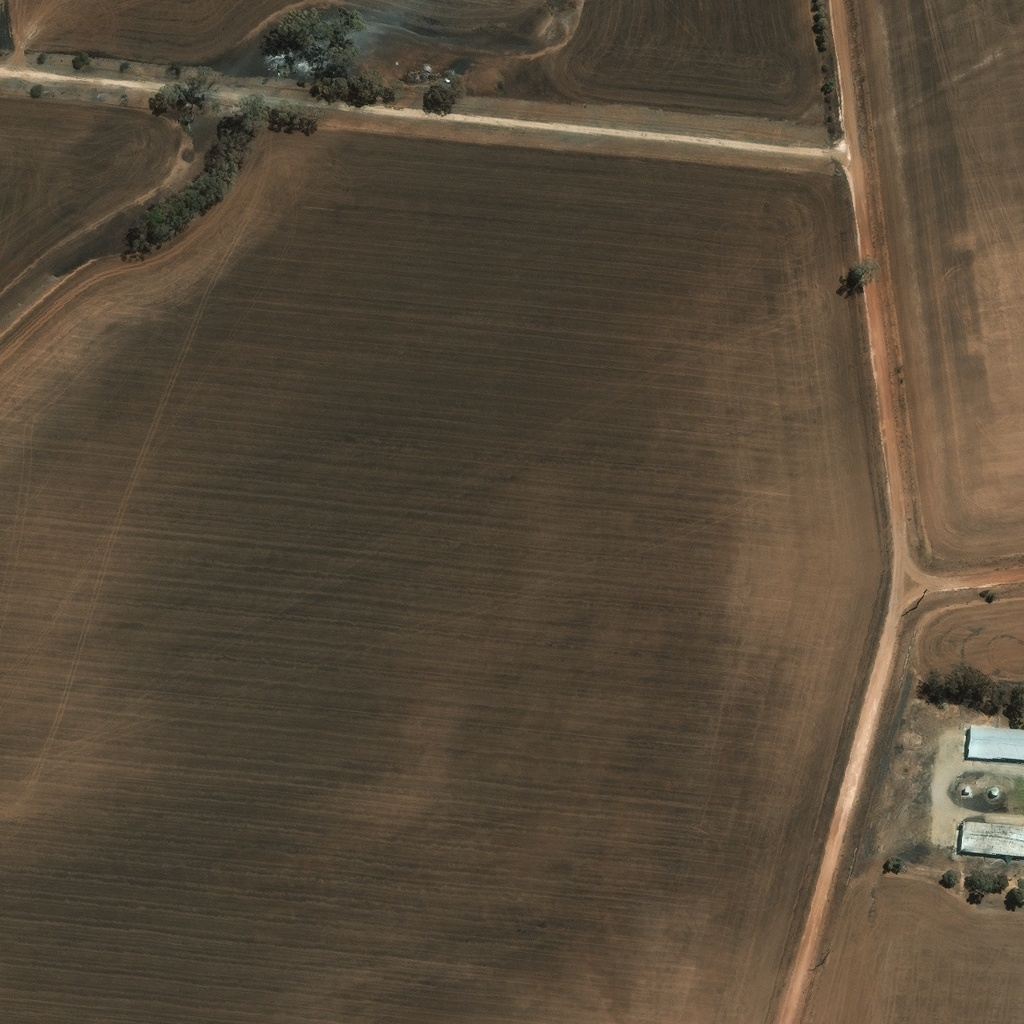0 no-damage: (961, 818, 1023, 855), (968, 725, 1023, 758), (965, 784, 975, 793), (991, 788, 999, 795)
